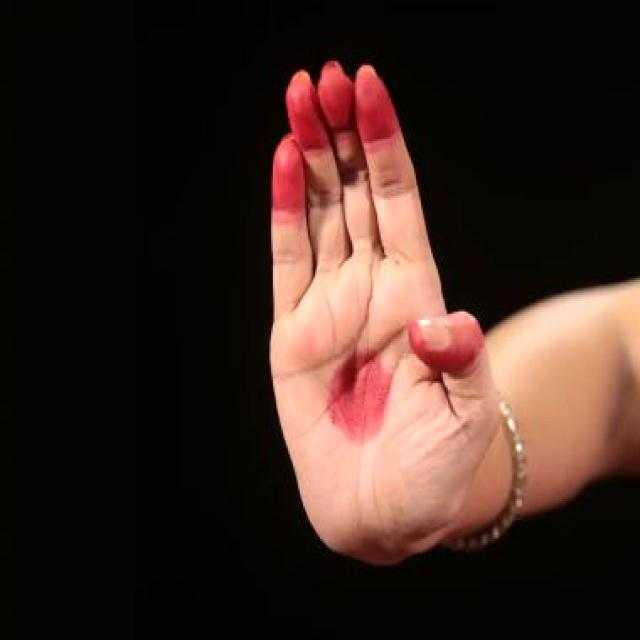Sarpashirsha: (242, 36, 527, 592)
